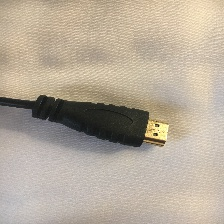hdmi_male: (34, 83, 173, 157)
